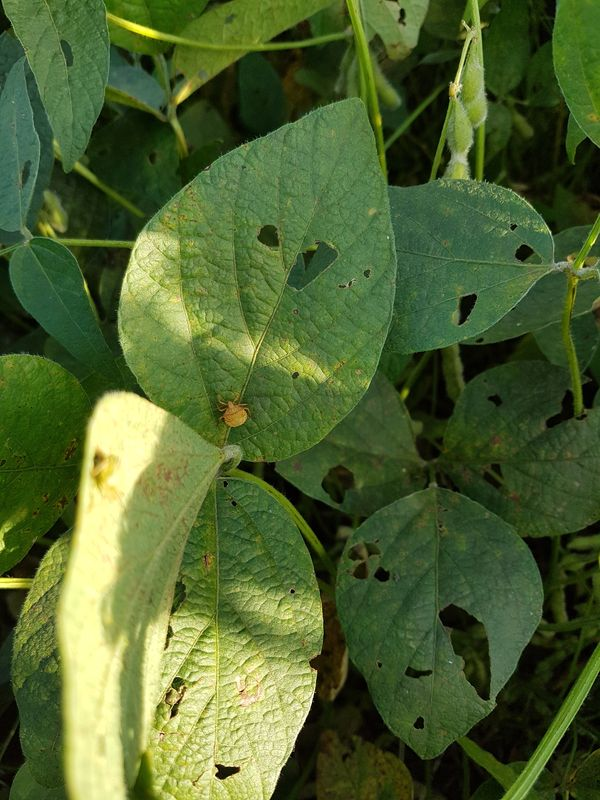Euschistus_heros_ninfa: (206, 389, 254, 434)
